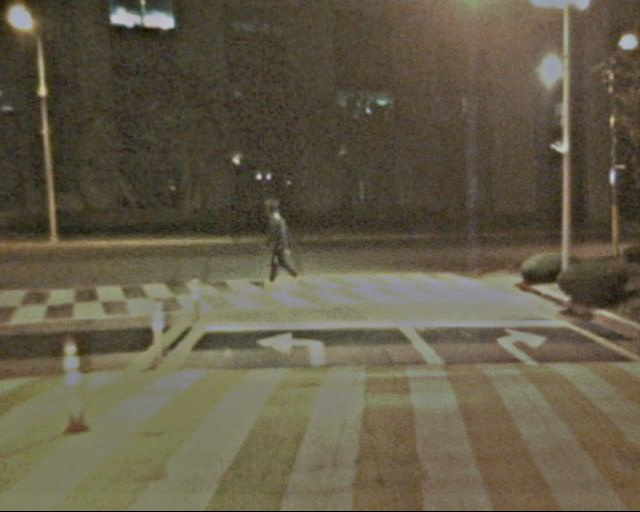person: (262, 207, 298, 296)
